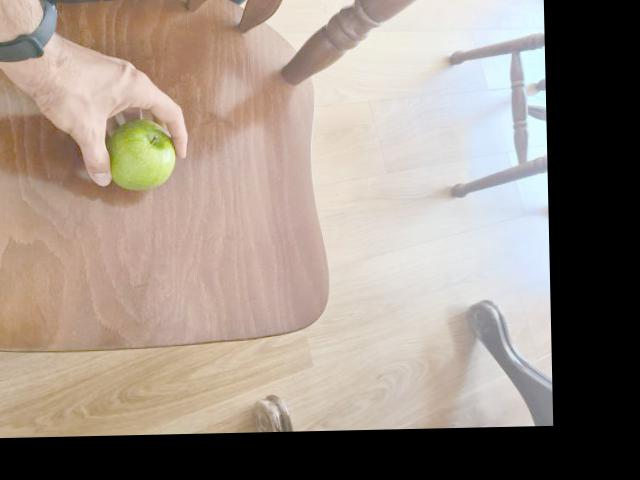apple: (102, 124, 183, 191)
